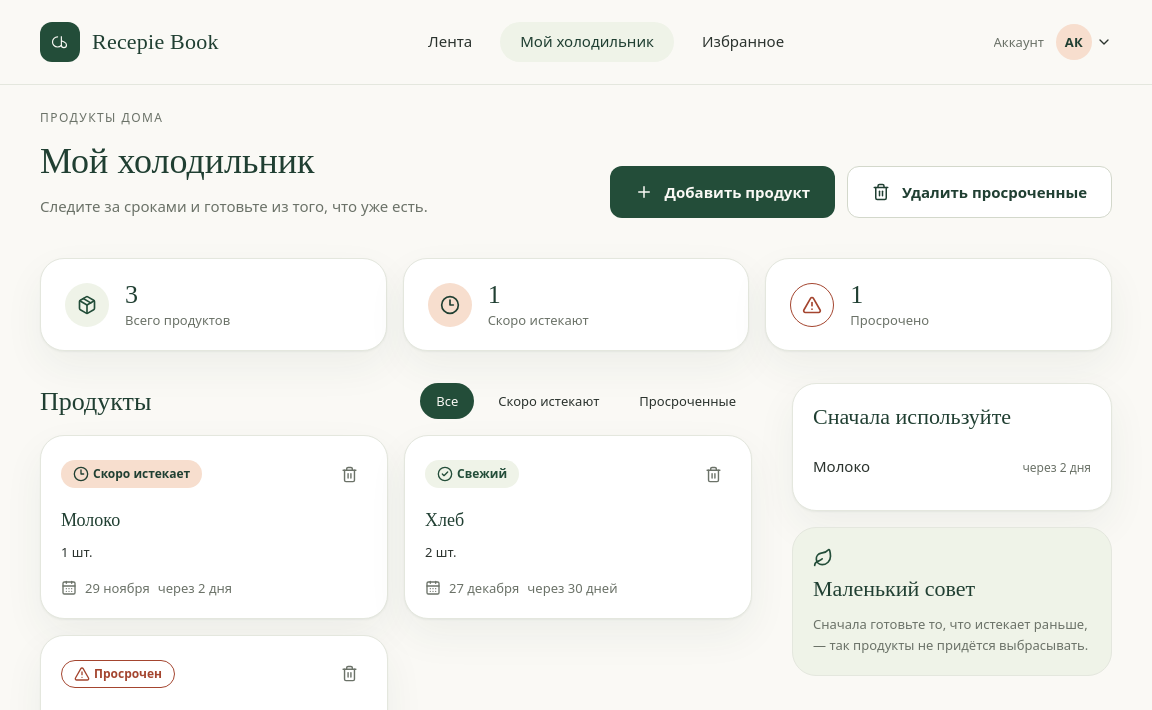
Scenario: fridge page › deletes one product
Expected: the heading "Молоко" is shown, [61,510,120,530]
Click the button named "Удалить Молоко" at (349, 474), box [331,456,367,492]
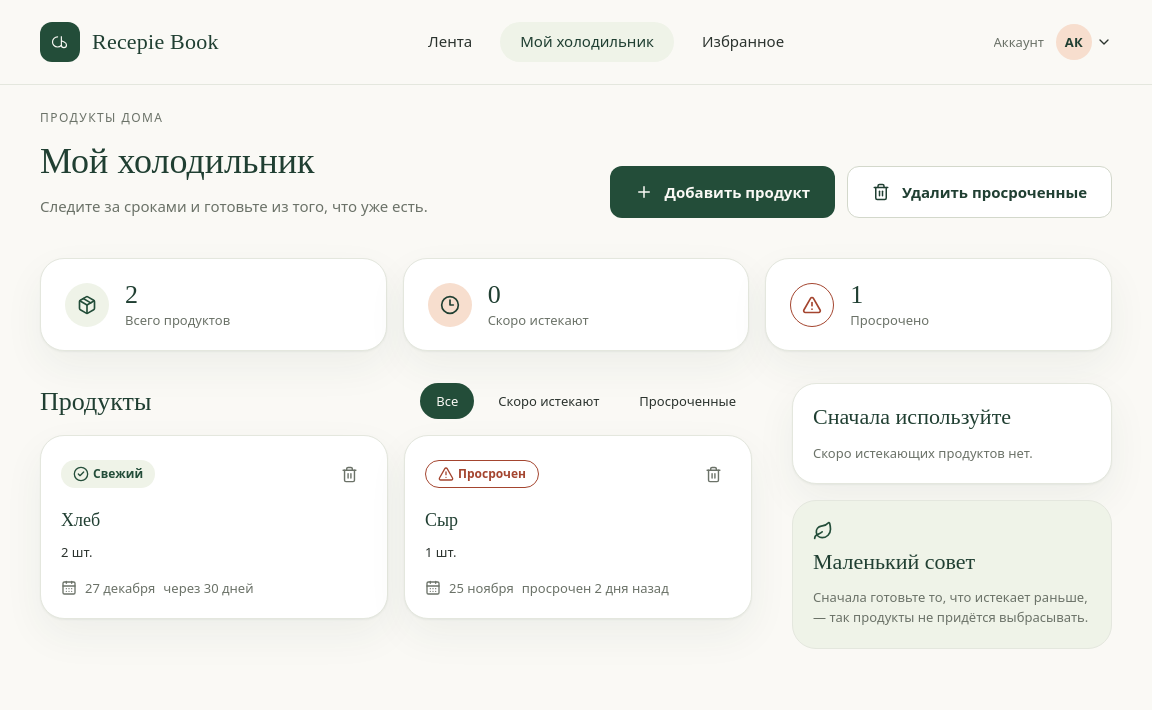
Now the heading "Молоко" is gone
